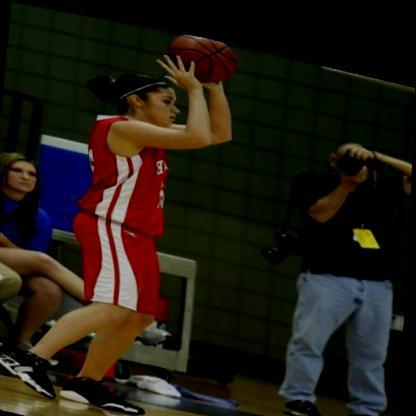basketball: (162, 24, 244, 82)
